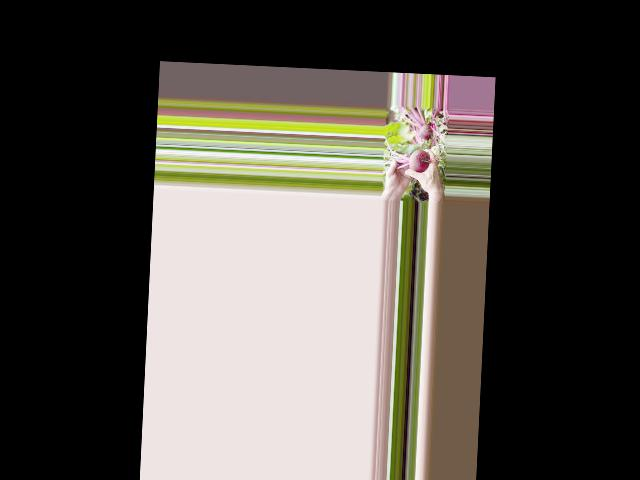beet: (383, 135, 431, 173)
